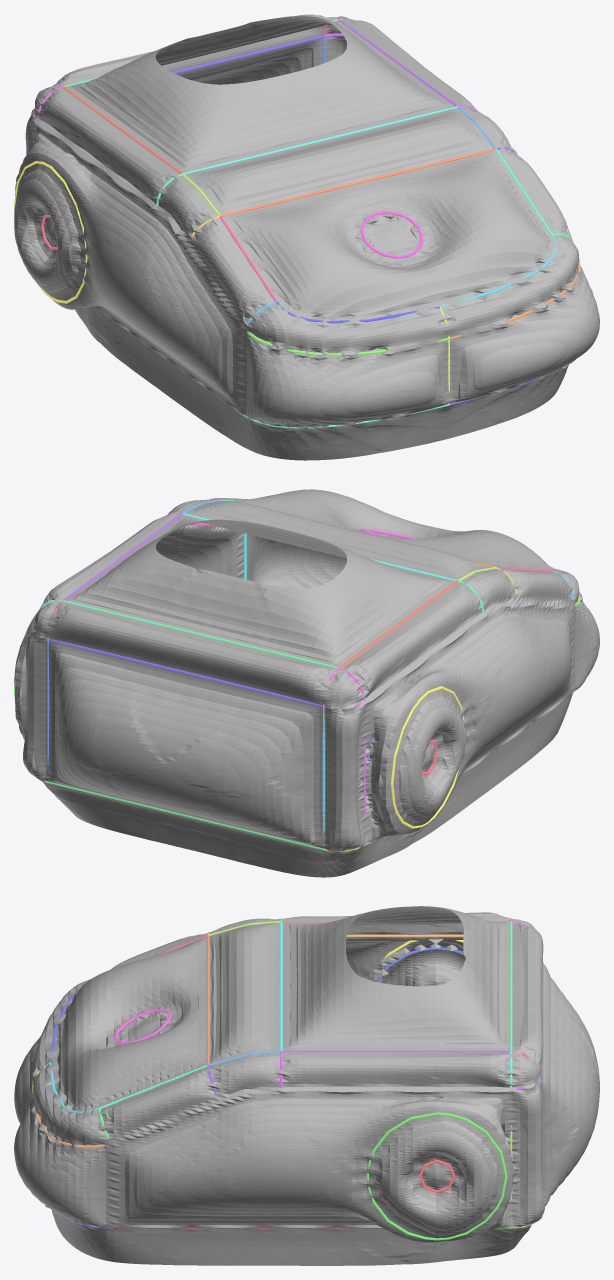
The model's file is onshape_vacuum.gltf.
3 views of the same model, one above another, from view 1: azimuth 30°, elevation 25°; view 2: azimuth 150°, elevation 25°; view 3: azimuth 270°, elevation 25° (orthographic). The views are drawn at different scales.
Bounding box in the file's own units: 0.6685 × 0.3969 × 0.8602.
